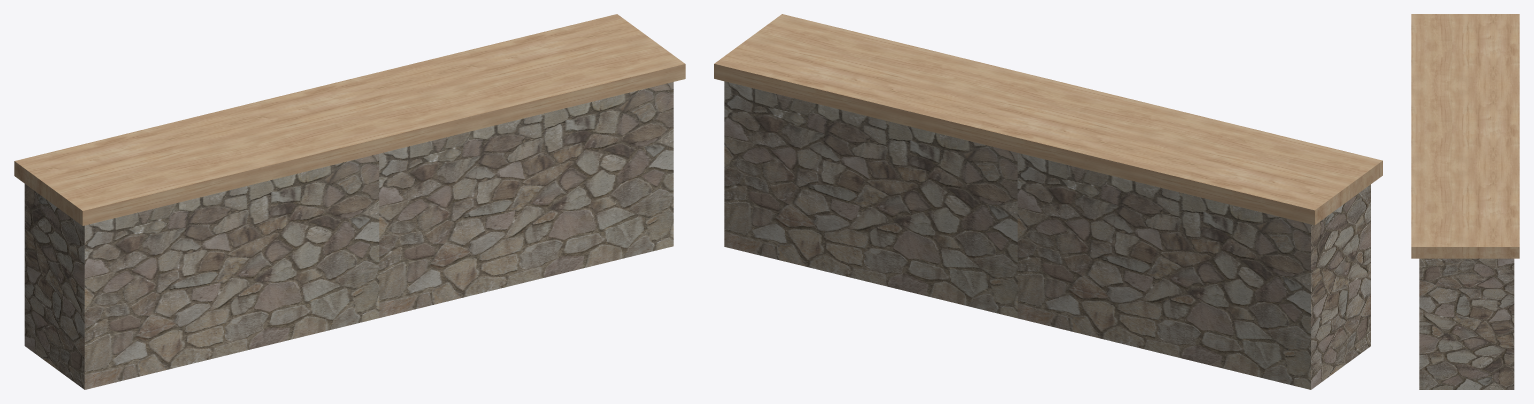
File: Bar.FBX
3 views of the same model, side by side, from view 1: azimuth 30°, elevation 25°; view 2: azimuth 150°, elevation 25°; view 3: azimuth 270°, elevation 25° (orthographic). The views are drawn at different scales.
Visible parts, largest first — view 1: bar; view 2: bar; view 3: bar.
Boxes of the visible parts, x1,y1,x2,y2 form: bar: [14, 14, 685, 389]; bar: [714, 14, 1382, 389]; bar: [1411, 14, 1519, 389].
Bounding box in the file's own units: 346 × 101 × 67.8.
2 materials, 2 textured.
